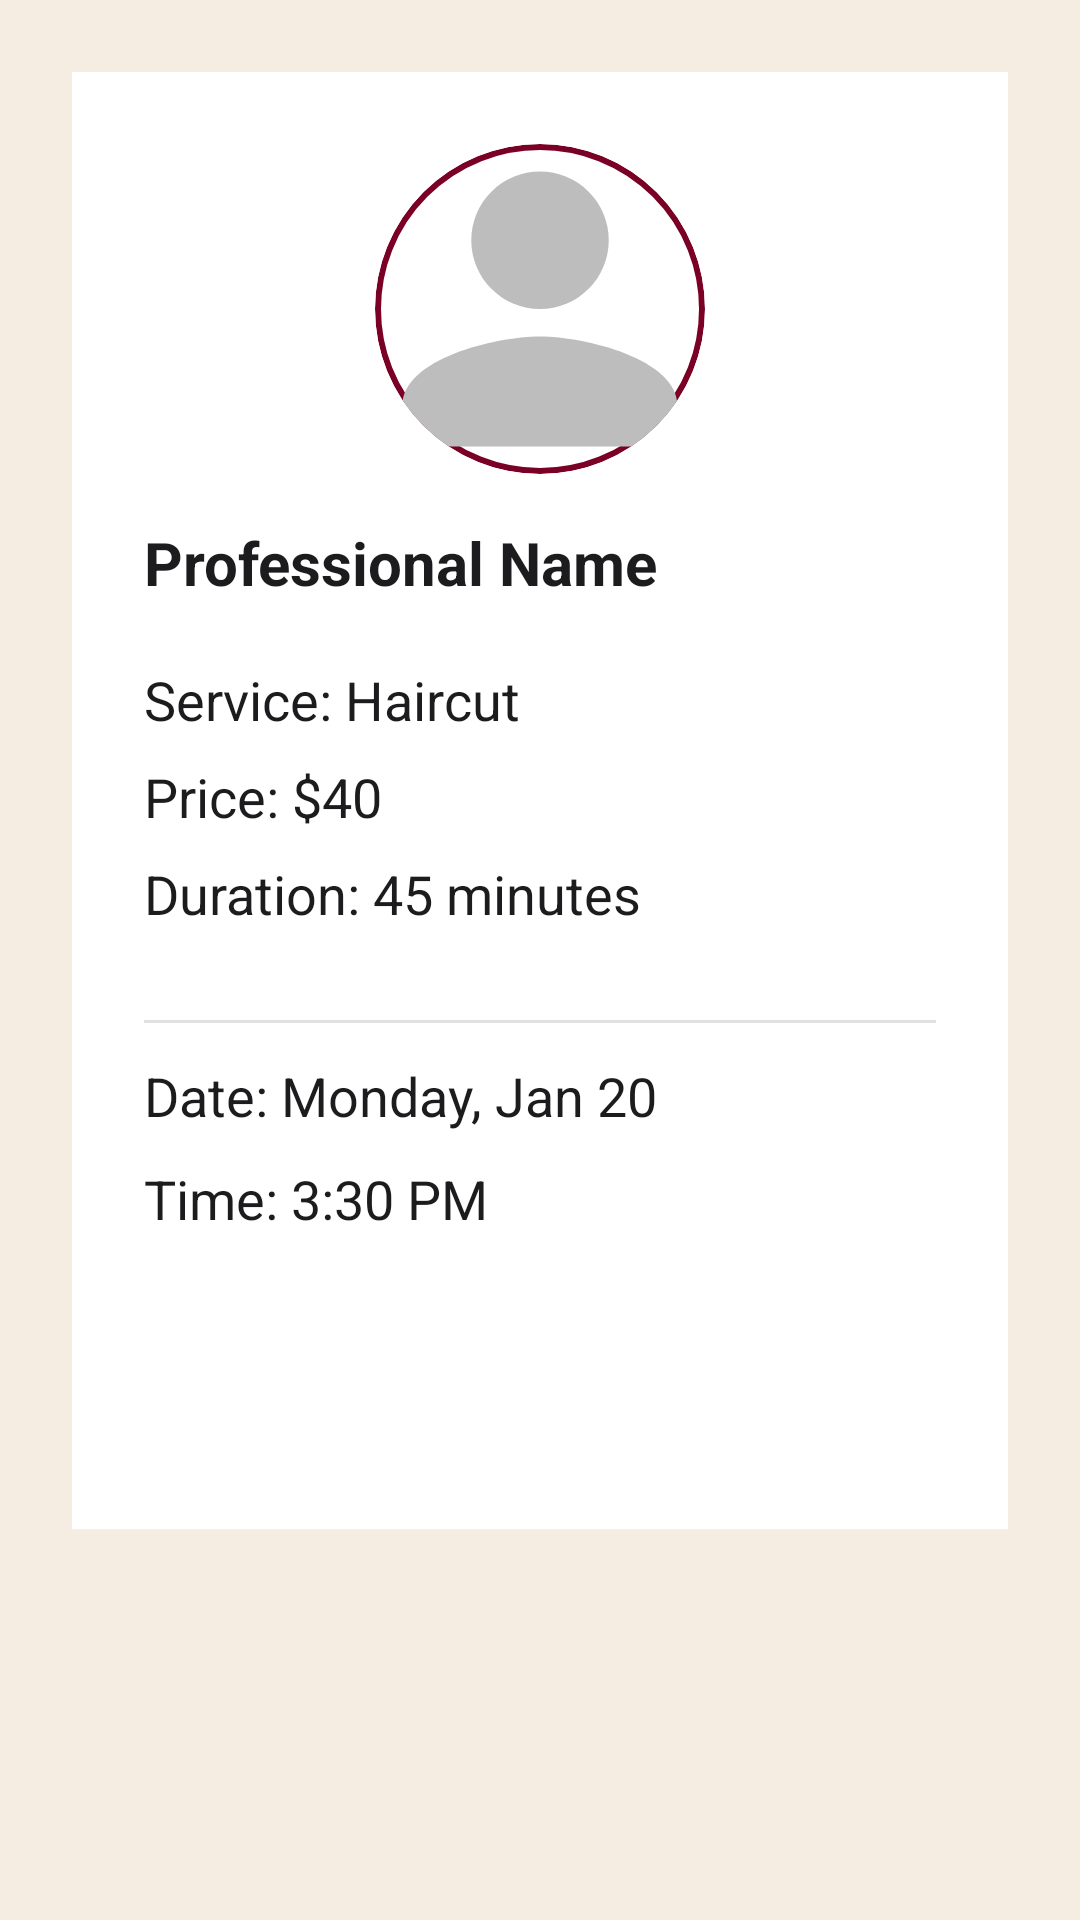

Icons on this 1080 × 1920 Android screen, each with its box as box(x1, y1, x2, y2):
person: box(375, 144, 705, 474)
